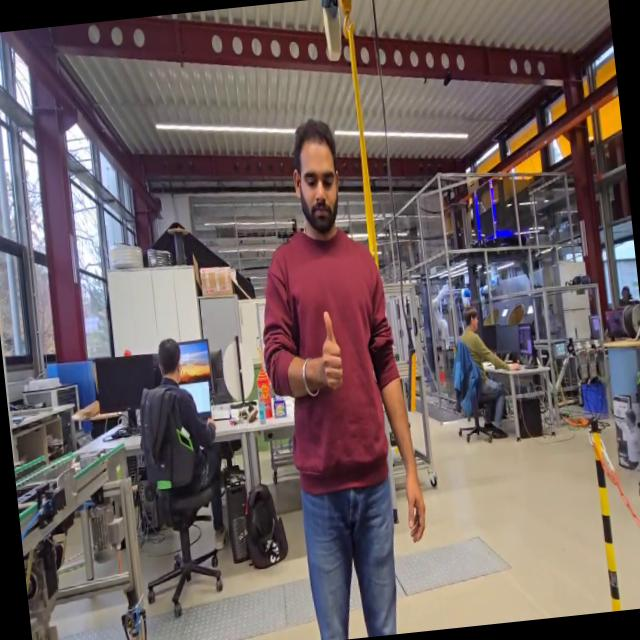thumbs_up: (313, 306, 352, 393)
